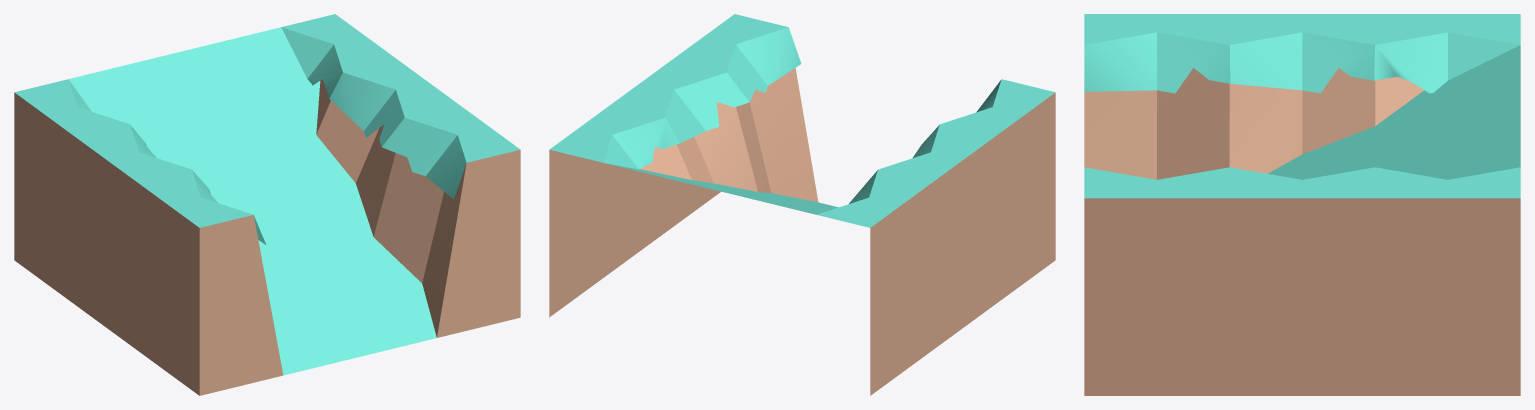
The picture shows the model from 3 angles, left to right: view 1: azimuth 30°, elevation 25°; view 2: azimuth 150°, elevation 25°; view 3: azimuth 270°, elevation 25°; orthographic projection. The views are drawn at different scales.
Parts seen in each view (by area): view 1: cliff_blockSlopeHalfWalls_rock; view 2: cliff_blockSlopeHalfWalls_rock; view 3: cliff_blockSlopeHalfWalls_rock.
Boxes of the visible parts, bbox=[...] form: cliff_blockSlopeHalfWalls_rock: bbox=[14, 14, 520, 395]; cliff_blockSlopeHalfWalls_rock: bbox=[549, 14, 1055, 395]; cliff_blockSlopeHalfWalls_rock: bbox=[1084, 14, 1520, 395].
Size of the model in its own units: 100 by 50 by 100.
